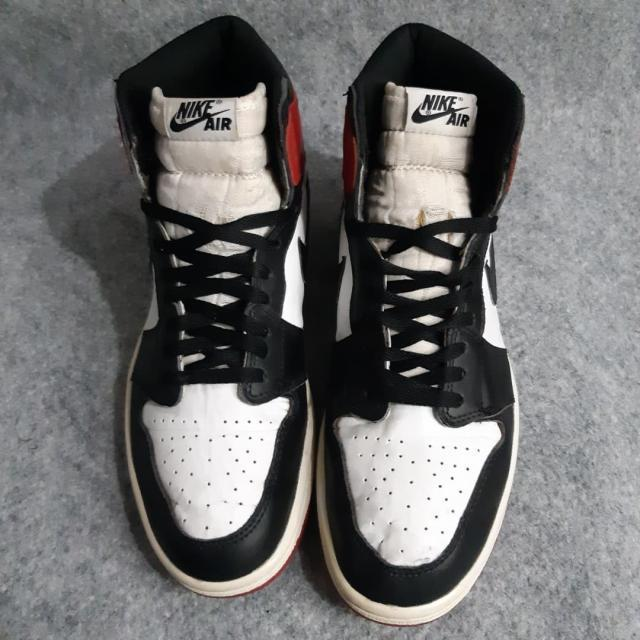nike fake jordan 1: (315, 19, 532, 626), (115, 13, 324, 594)
